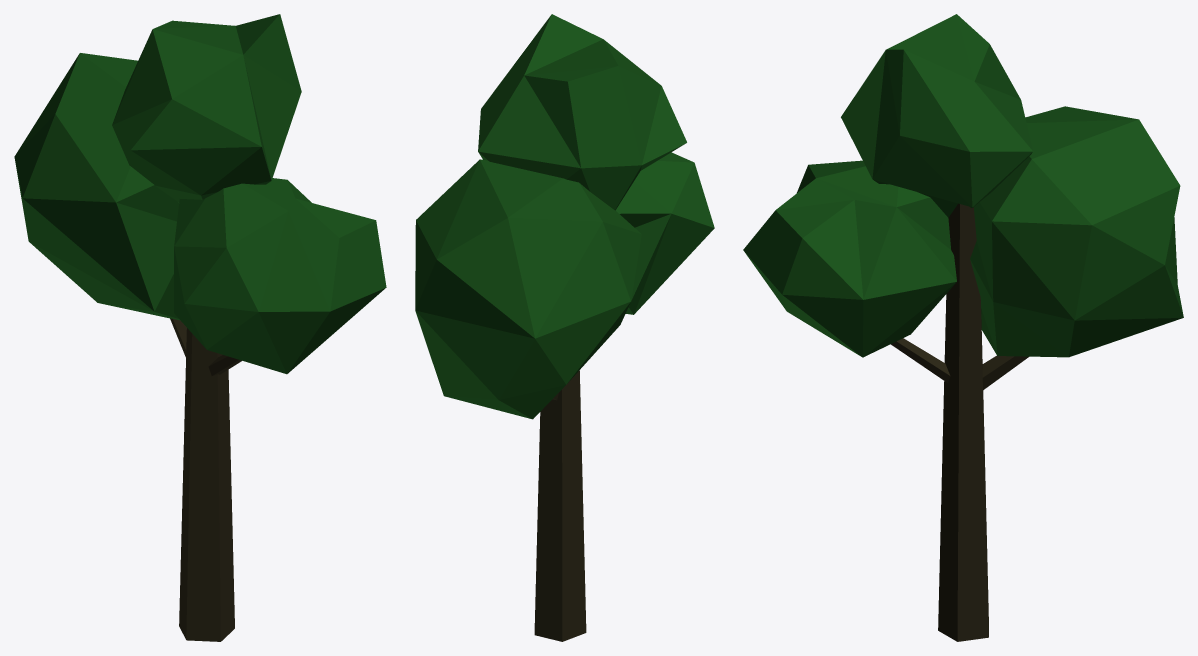
Rendered from Tree9.fbx.
3 renders of one model, left to right at view 1: azimuth 30°, elevation 25°; view 2: azimuth 150°, elevation 25°; view 3: azimuth 270°, elevation 25°, orthographic. The views are drawn at different scales.
Parts seen in each view (by area): view 1: Tree9; view 2: Tree9; view 3: Tree9.
Part boxes in pixels (bbox=[...]): Tree9: bbox=[14, 14, 386, 641]; Tree9: bbox=[415, 14, 714, 641]; Tree9: bbox=[743, 14, 1183, 641].
Size of the model in its own units: 3.45 by 8.99 by 5.99.
